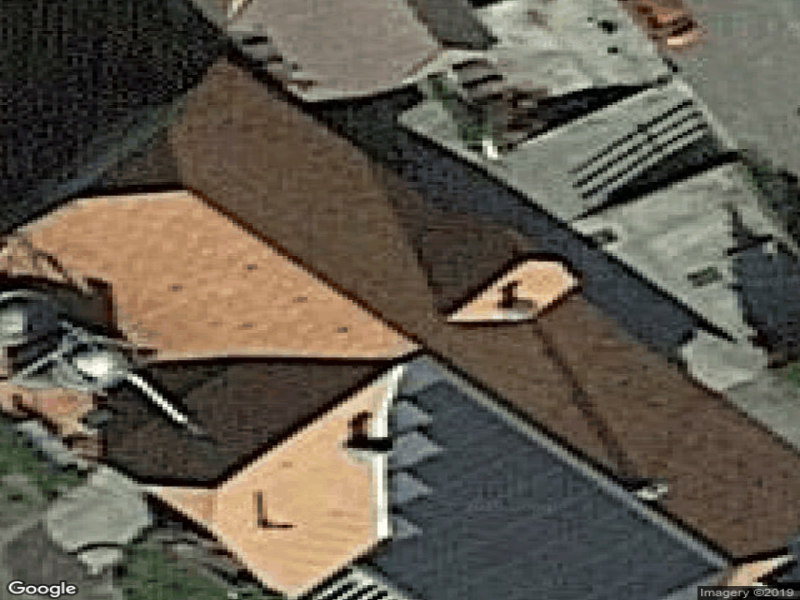pv: (370, 382, 726, 600)
